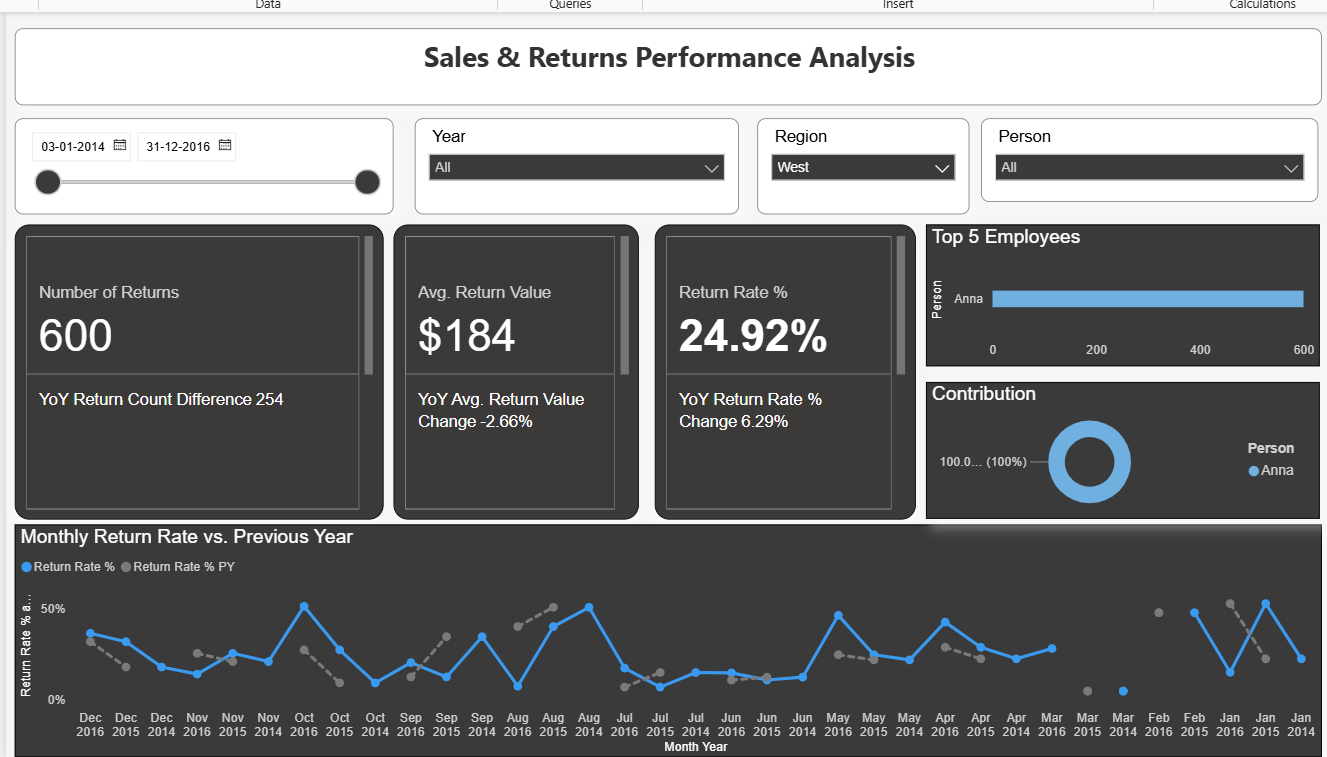

Layout of this report page (visuals, bound fields, positions):
{"tool":"powerbi","page":{"name":"Sales & Returns Performance Analysis_DASHBOARD","canvas":[1280,720],"ordinal":0},"visuals":[{"type":"textbox","box":[8.4,15.7,1261.9,74.8],"z":0},{"type":"slicer","fields":{"Values":["DimPeople.Region"]},"box":[725.3,102.4,204.8,92.4],"z":1000},{"type":"slicer","fields":{"Values":["DimPeople.Person"]},"box":[941.5,102.4,325.7,81.1],"z":2000},{"type":"slicer","fields":{"Values":["DimDate.Date"]},"box":[8.4,102.5,365.6,92.9],"z":3000},{"type":"slicer","fields":{"Values":["DimDate.Year"]},"box":[394,102.4,312.9,92.4],"z":4000},{"type":"cardVisual","fields":{"Data":["FactSales.Return Rate %","FactSales.YoY Return Rate % Change"]},"box":[625.8,204.8,251.7,284.4],"z":5000},{"type":"cardVisual","fields":{"Data":["FactSales.Avg. Return Value","FactSales.YoY Avg. Return Value Change"]},"box":[374,205.1,236.5,284.7],"z":6000},{"type":"cardVisual","fields":{"Data":["FactSales.Number of Returns","FactSales.YoY Return Count Difference"]},"box":[8.4,205.1,355.9,284.7],"z":7000},{"type":"lineChart","title":"Monthly Return Rate vs. Previous Year","fields":{"Category":["DimDate.Month Year"],"Y":["FactSales.Return Rate %","FactSales.Return Rate % PY"]},"box":[8.4,494.6,1261.9,225.6],"z":8000},{"type":"clusteredBarChart","title":"Top 5 Employees","fields":{"Category":["DimPeople.Person"],"Y":["FactSales.Number of Returns"]},"box":[887.5,204.8,379.7,136.5],"z":9000},{"type":"donutChart","title":"Contribution","fields":{"Category":["DimPeople.Person"],"Y":["FactSales.% Contribution of Each Employee to Total Returns"]},"box":[887.5,357,379.7,132.3],"z":10000}]}

Visuals, with their boxes in screenshot pixels (x1, y1, x2, y2):
textbox: (x1=15, y1=30, x2=1306, y2=106)
slicer - DimPeople.Region: (x1=748, y1=119, x2=958, y2=213)
slicer - DimPeople.Person: (x1=969, y1=119, x2=1302, y2=201)
slicer - DimDate.Date: (x1=15, y1=119, x2=389, y2=214)
slicer - DimDate.Year: (x1=410, y1=119, x2=730, y2=213)
cardVisual - FactSales.Return Rate % x FactSales.YoY Return Rate % Change: (x1=647, y1=223, x2=904, y2=514)
cardVisual - FactSales.Avg. Return Value x FactSales.YoY Avg. Return Value Change: (x1=389, y1=224, x2=631, y2=515)
cardVisual - FactSales.Number of Returns x FactSales.YoY Return Count Difference: (x1=15, y1=224, x2=379, y2=515)
"Monthly Return Rate vs. Previous Year" lineChart: (x1=15, y1=519, x2=1306, y2=750)
"Top 5 Employees" clusteredBarChart: (x1=914, y1=223, x2=1302, y2=363)
"Contribution" donutChart: (x1=914, y1=379, x2=1302, y2=514)
